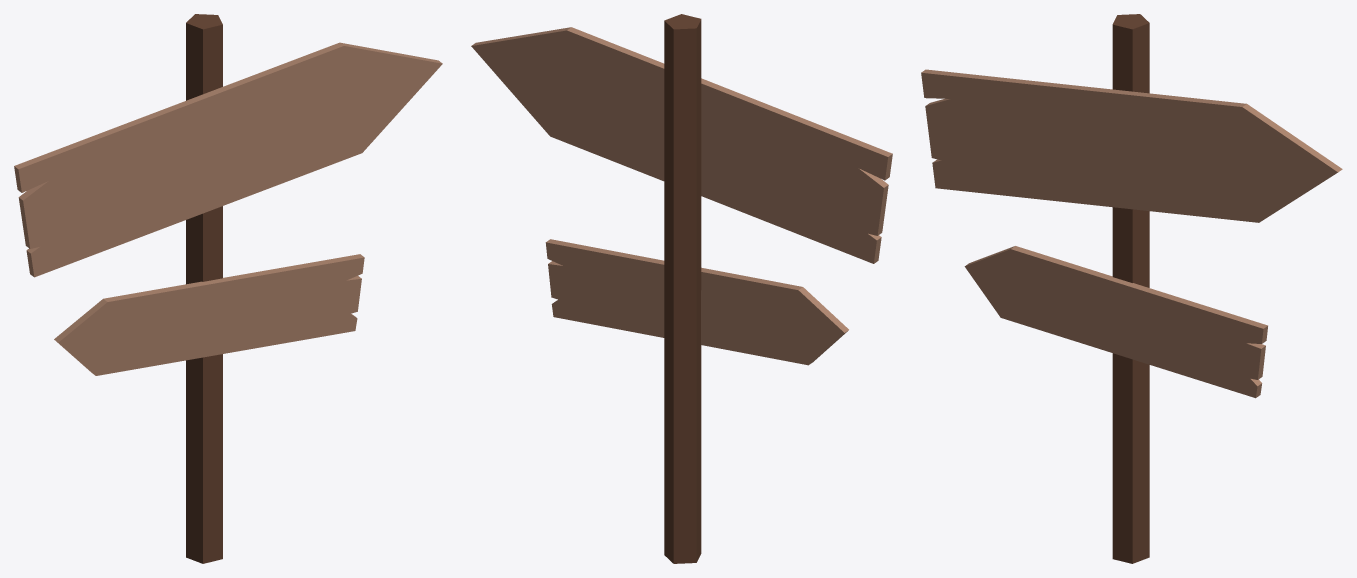
The model's file is sign.fbx.
3 renders of one model, left to right at view 1: azimuth 30°, elevation 25°; view 2: azimuth 150°, elevation 25°; view 3: azimuth 330°, elevation 25°, orthographic.
Parts seen in each view (by area): view 1: Signs, Post; view 2: Signs, Post; view 3: Signs, Post.
Part boxes in pixels (bbox=[...]): Signs: bbox=[14, 42, 442, 375]; Post: bbox=[186, 14, 222, 563]; Signs: bbox=[471, 27, 892, 365]; Post: bbox=[664, 14, 701, 563]; Signs: bbox=[921, 69, 1342, 398]; Post: bbox=[1112, 14, 1149, 563].
Size of the model in its own units: 124 by 150 by 12.67.
